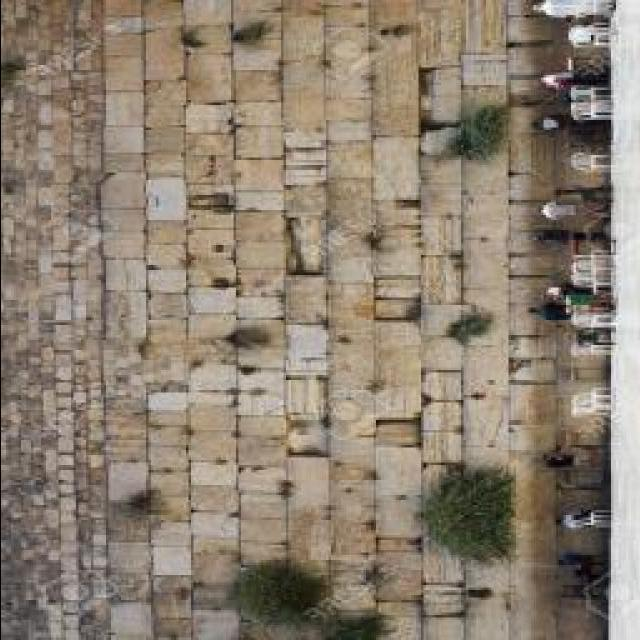crack: (1, 0, 615, 638), (98, 17, 278, 631)
vegetation: (419, 463, 515, 563), (452, 102, 509, 161), (123, 487, 161, 518), (231, 20, 268, 43), (181, 28, 207, 49), (1, 60, 24, 82), (378, 24, 411, 38)
